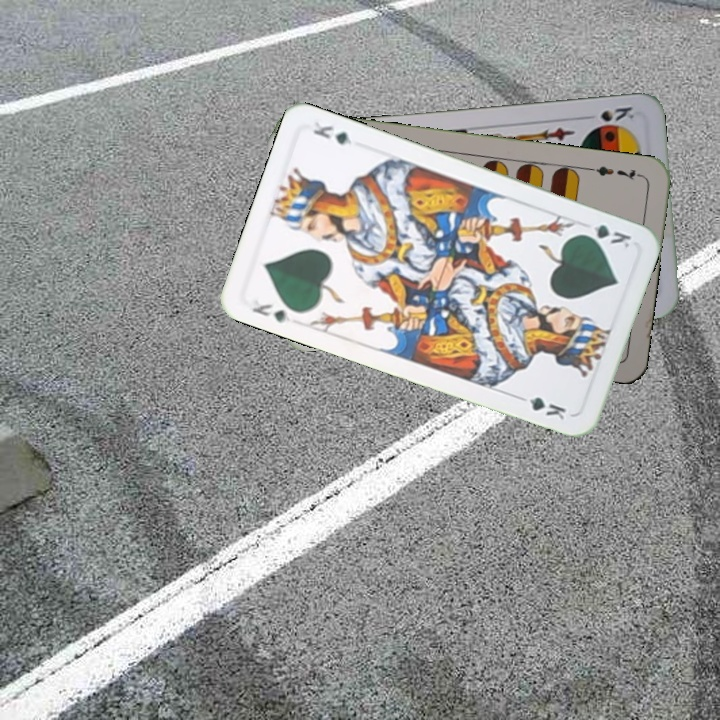E7: (586, 162, 645, 183)
GK: (576, 220, 636, 251), (247, 299, 294, 326)
SK: (579, 102, 637, 124)
